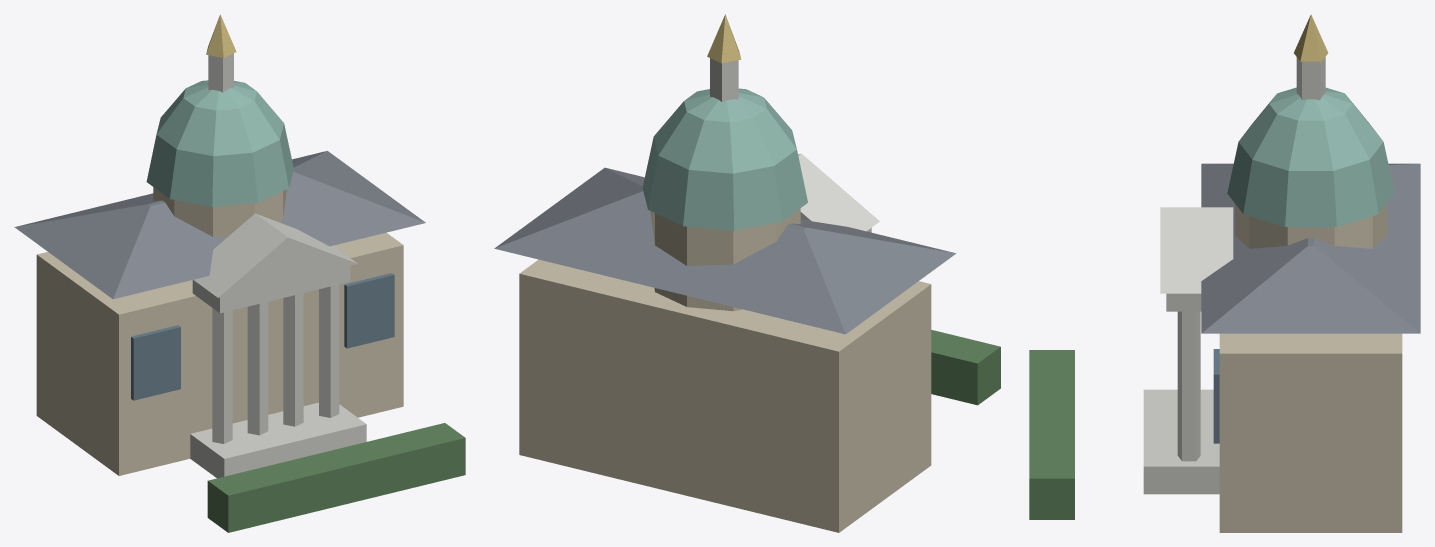
File: national-national-college.glb
The picture shows the model from 3 angles, left to right: view 1: azimuth 30°, elevation 25°; view 2: azimuth 150°, elevation 25°; view 3: azimuth 270°, elevation 25°; orthographic projection. The views are drawn at different scales.
Parts seen in each view (by area): view 1: LOD0; view 2: LOD0; view 3: LOD0.
Boxes of the visible parts, x1,y1,x2,y2 form: LOD0: [14, 14, 465, 532]; LOD0: [494, 14, 1000, 532]; LOD0: [1029, 14, 1420, 532].
Size of what is drawn, in the model's own units: 0.264 by 0.32 by 0.257.
